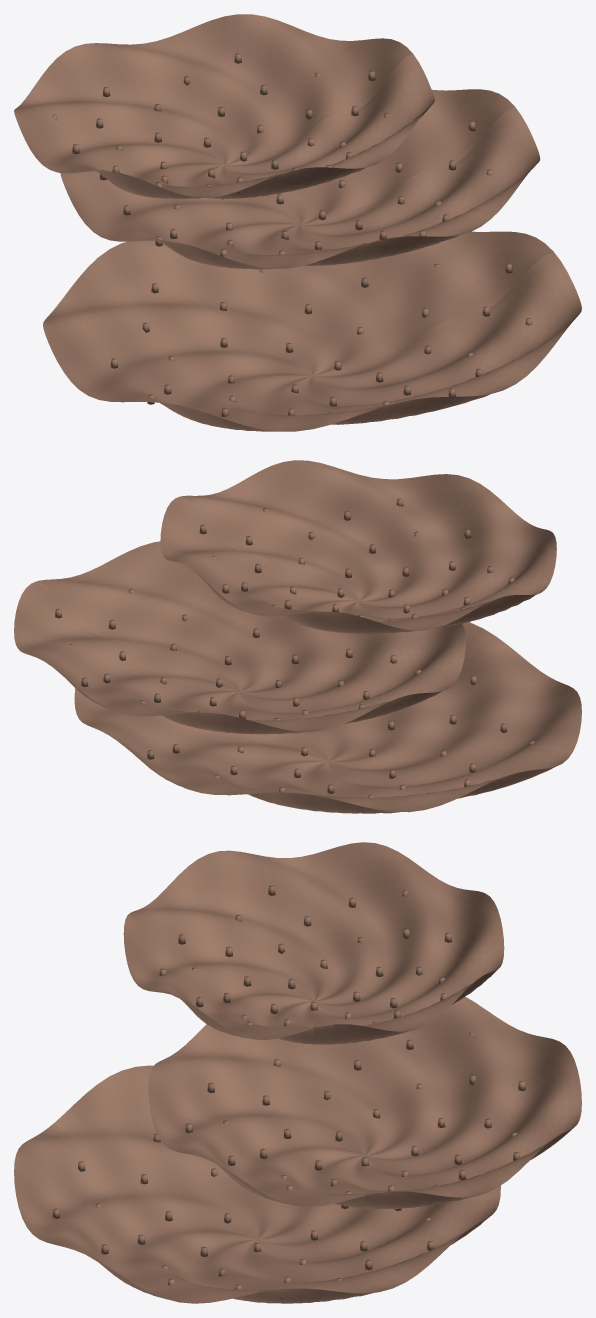
Rendered from montiplate-desktop.glb.
The picture shows the model from 3 angles, top to bottom: view 1: azimuth 30°, elevation 25°; view 2: azimuth 150°, elevation 25°; view 3: azimuth 270°, elevation 25°; orthographic projection. The views are drawn at different scales.
Visible parts, largest first — view 1: foliate-plate, surface-corallite; view 2: foliate-plate, surface-corallite; view 3: foliate-plate, surface-corallite.
Boxes of the visible parts, <box> form: foliate-plate: <box>14,14,581,431</box>; surface-corallite: <box>52,53,532,416</box>; foliate-plate: <box>14,460,581,813</box>; surface-corallite: <box>55,498,534,797</box>; foliate-plate: <box>14,842,581,1303</box>; surface-corallite: <box>52,885,525,1299</box>.
Bounding box in the file's own units: 0.6687 × 0.3475 × 0.6419.
